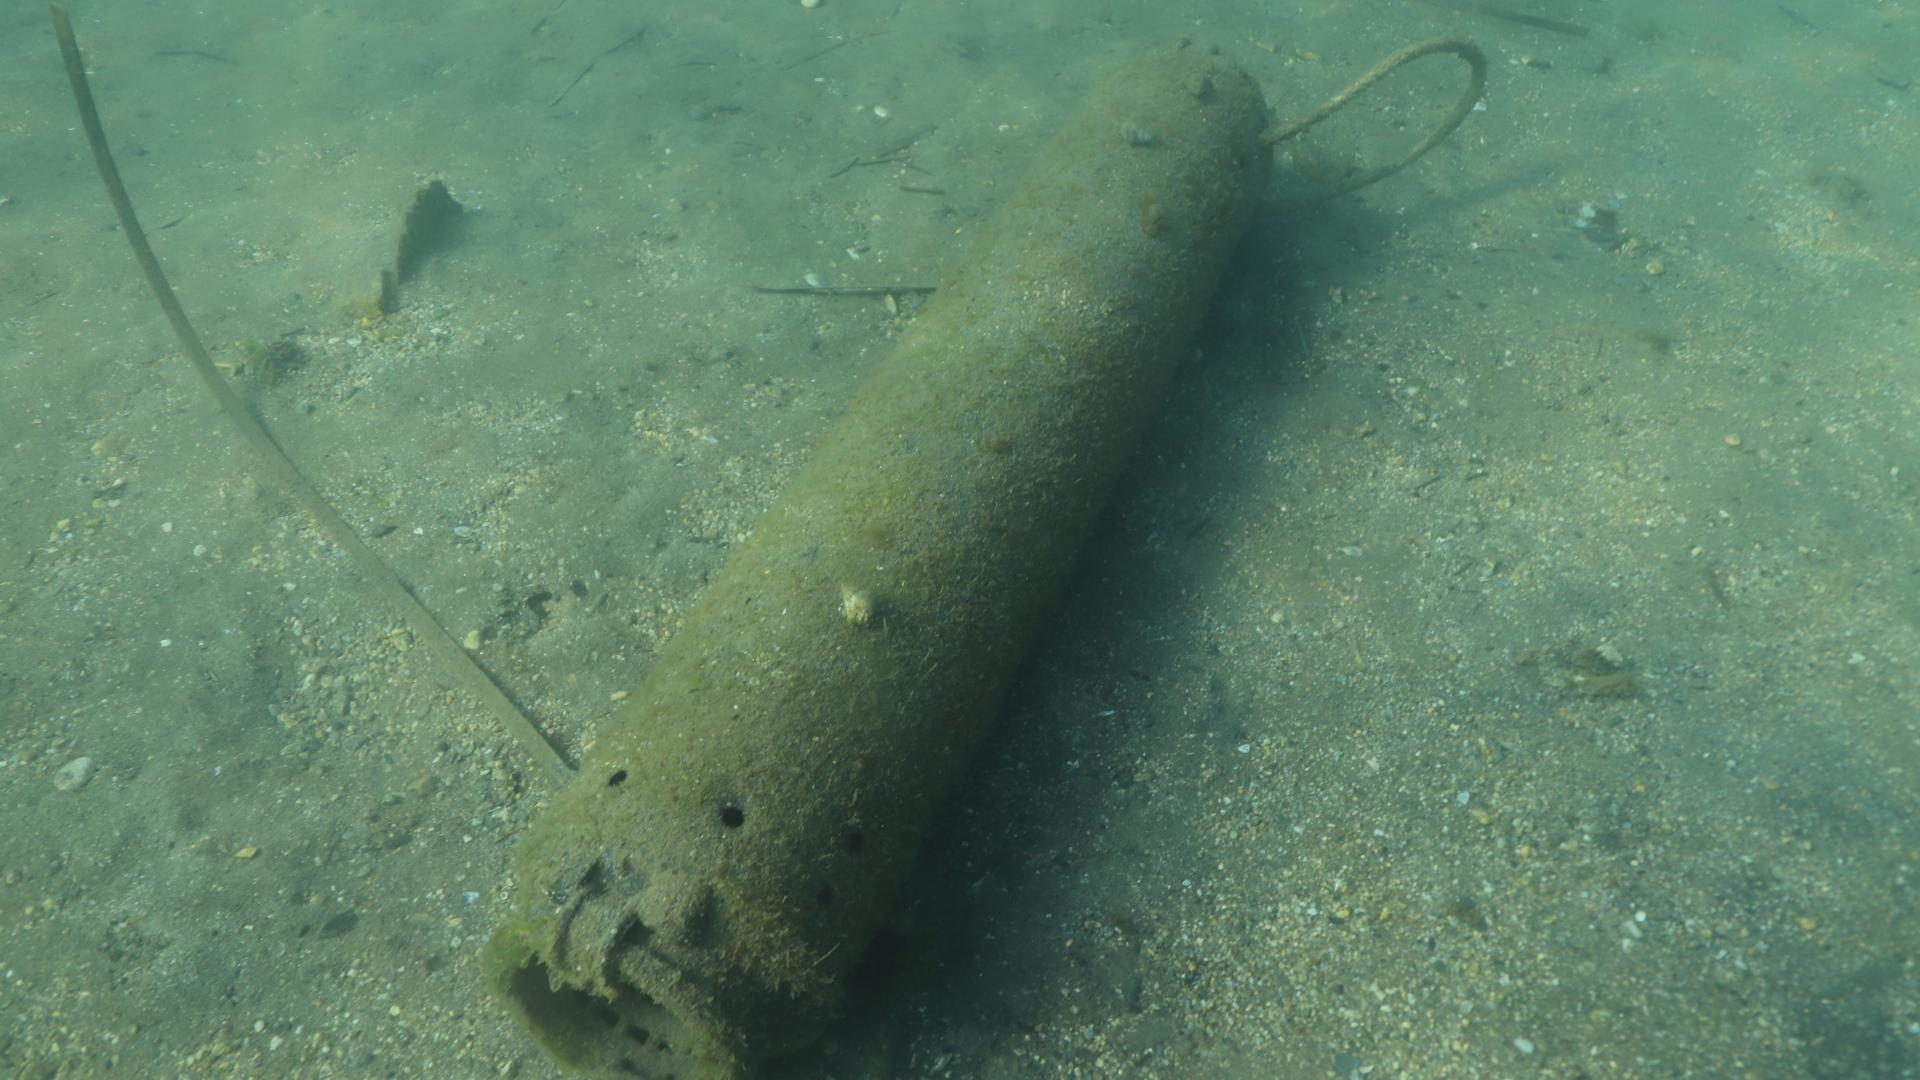eel fish trap: (477, 36, 1276, 1080)
rope: (1274, 33, 1489, 208)
